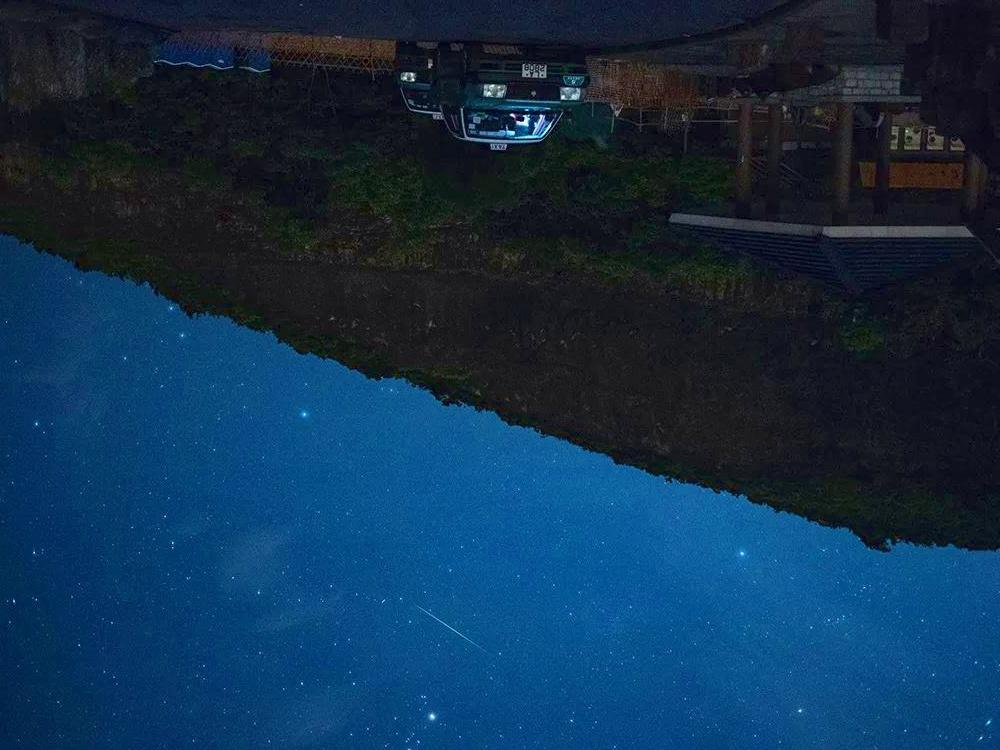meteorite: (400, 601, 503, 656)
